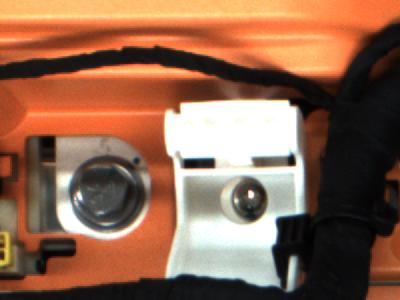nut_b: (62, 157, 148, 239)
